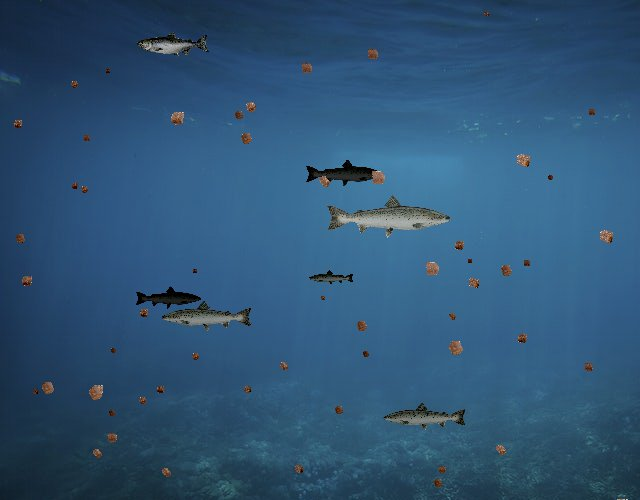Fish: (324, 193, 453, 239), (161, 300, 255, 333), (382, 401, 468, 432), (304, 159, 385, 188), (138, 32, 211, 58), (134, 285, 202, 310), (308, 270, 355, 287)
Pellet: (163, 105, 191, 133), (312, 169, 336, 193), (234, 126, 258, 150), (239, 95, 262, 118), (10, 228, 31, 249), (76, 182, 92, 198), (544, 171, 557, 184), (29, 386, 41, 398)
